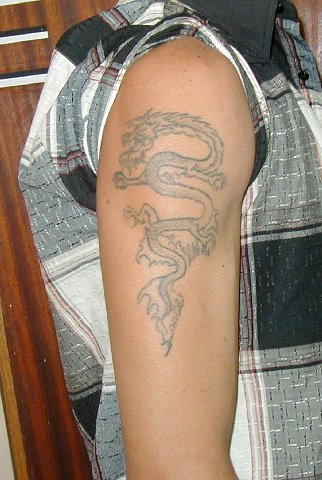tatu3_bukva: (107, 107, 235, 361)
